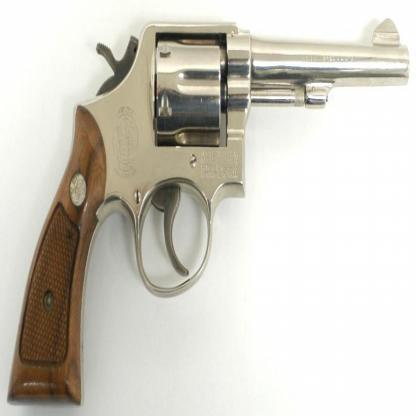gun: (1, 4, 416, 416)
